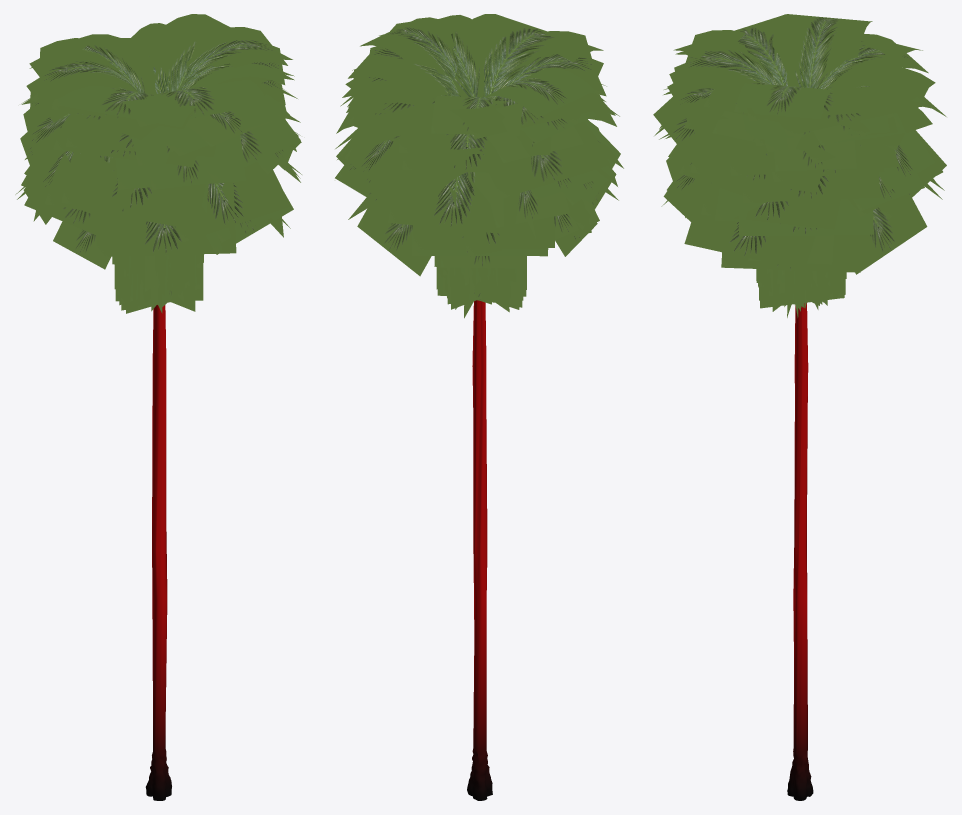
Rendered from Palm_1_10.fbx.
3 renders of one model, left to right at view 1: azimuth 30°, elevation 25°; view 2: azimuth 150°, elevation 25°; view 3: azimuth 270°, elevation 25°, orthographic.
Visible parts, largest first — view 1: Palm_1_10; view 2: Palm_1_10; view 3: Palm_1_10.
Boxes of the visible parts, <box> form: Palm_1_10: <box>15,14,301,800</box>; Palm_1_10: <box>335,14,623,800</box>; Palm_1_10: <box>653,14,946,800</box>.
Bounding box in the file's own units: 1756 × 4899 × 1770.
